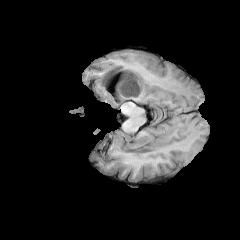glioma: (96, 65, 145, 103)
